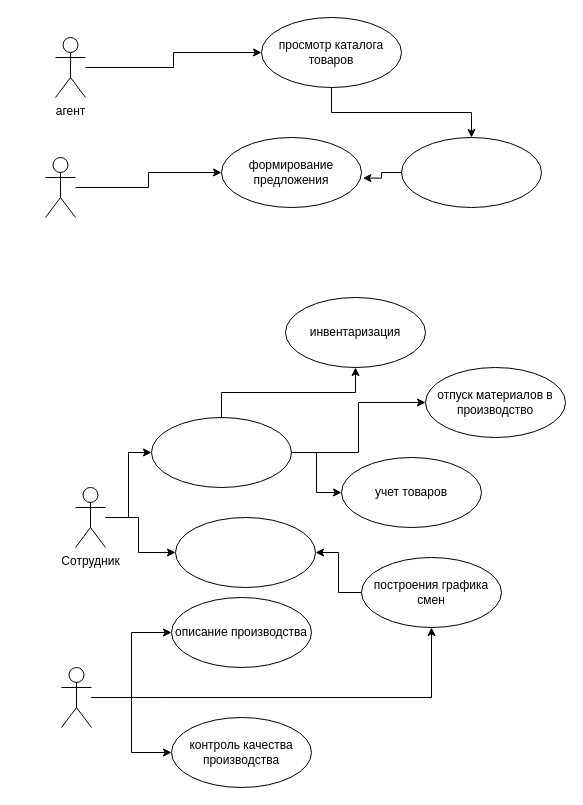
The diagram is 583 pixels wide and 805 high, and some of its shapes have lost their labels. The shapes that lost their labels are listed below. From the top down, each one's centre as x and y in pixels, then its label:
At (x=60, y=187): "Менеджер".
At (x=471, y=172): "выбор товара".
At (x=221, y=452): "фиксация поступлений материалов".
At (x=245, y=552): "соблюдение графика смен".
At (x=76, y=697): "мастер производства".
